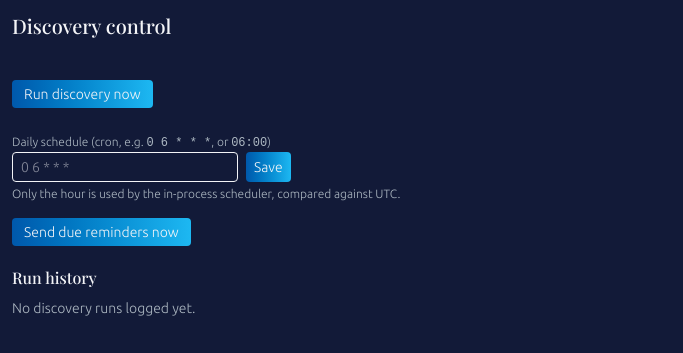
DiscoveryPage › shows the missing-alert-email note when a run has failures and no alert email is configured
Check: the text "No discovery runs logged yet." is shown, box [12, 300, 196, 316]
What coordinates should you click on to do the following:
click the button "Run discovery now"
I would click on:
 (82, 94)
Its box is [12, 80, 153, 108].
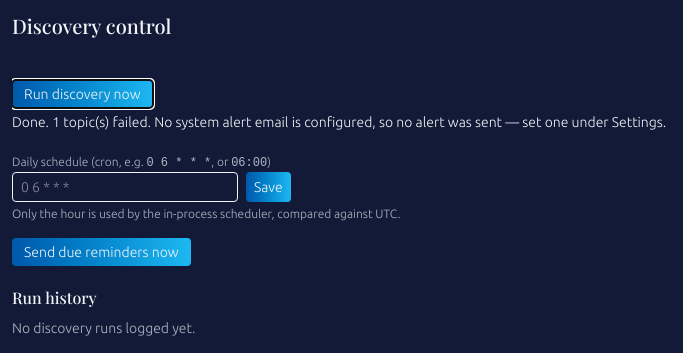
Check: the text "No system alert email is configured" is shown, box [12, 114, 666, 130]
